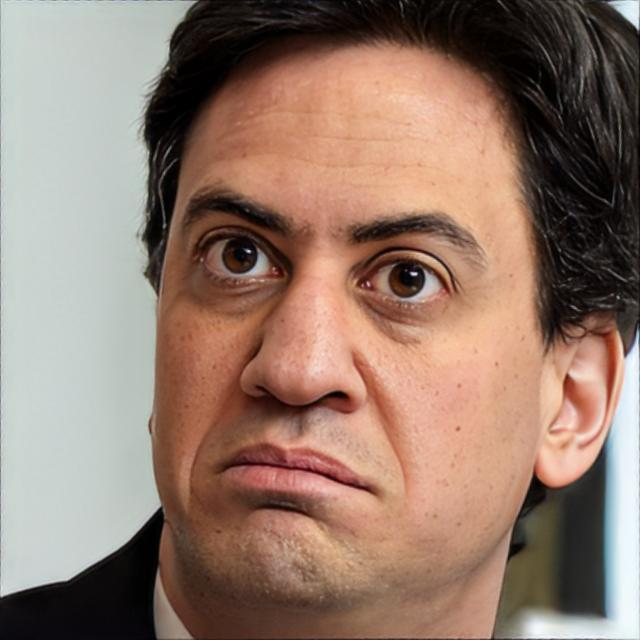disgust: (149, 28, 539, 620)
